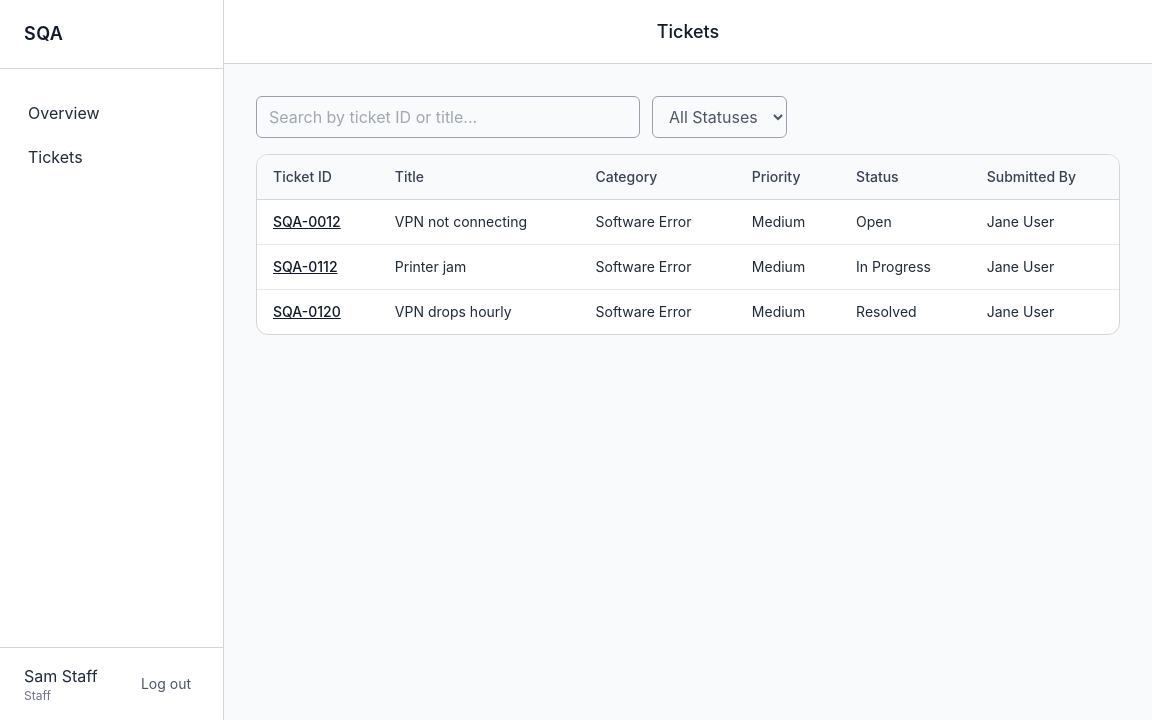
Scenario: StaffTickets page › search and filter (FR-6) › TC-FR56-18: no matches shows the empty-result message
The width and height of the screenshot is (1152, 720).
Expected: the text "VPN not connecting" is shown, [379,200,580,244]
Type "vpn" into the field with placeholder "Search by ticket ID or title...".
click(448, 117); type("vpn")  # box [256,96,640,138]
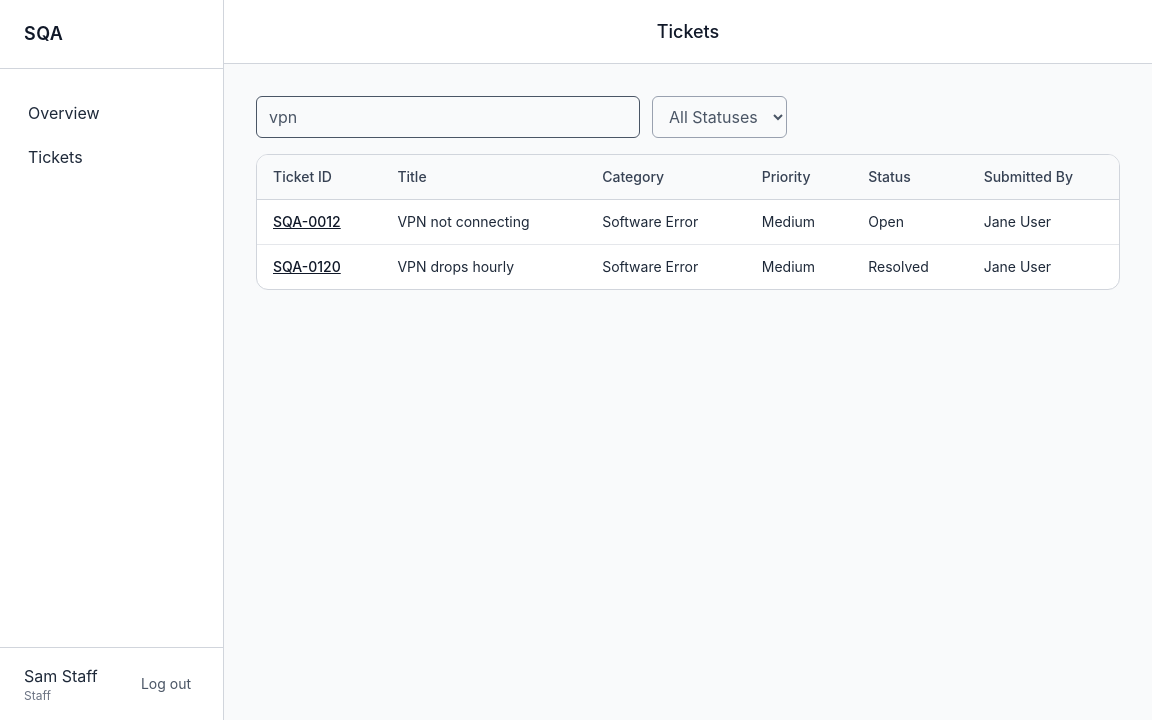
Select "Closed" in the dropdown at (720, 117), box [652,96,787,138]
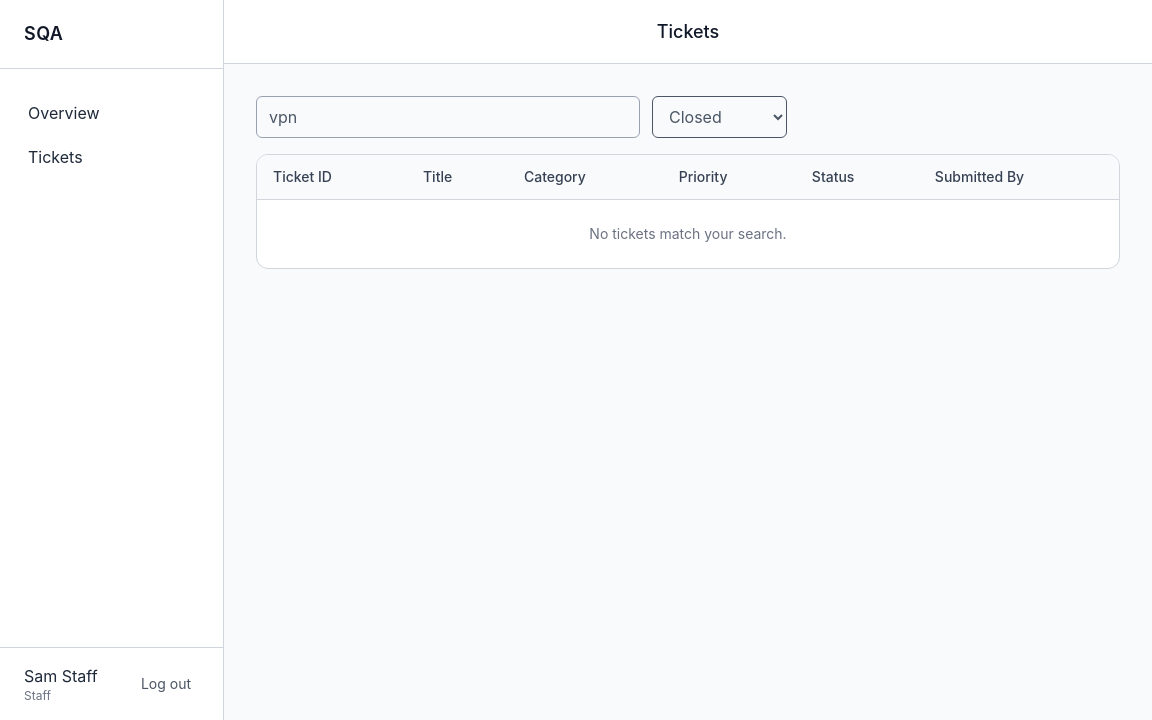
Expected: the text "No tickets match your search." is shown, [257,200,1119,268]
